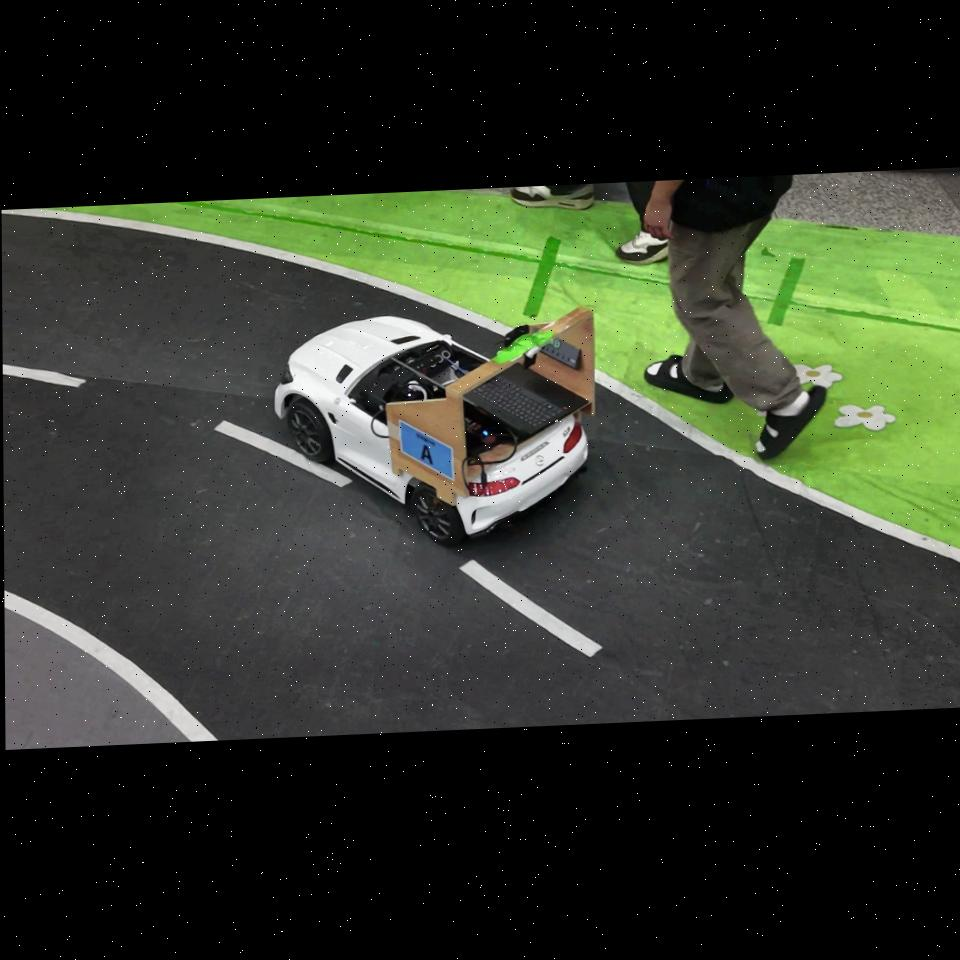broken_line: (460, 560, 602, 656), (215, 420, 351, 487), (3, 364, 85, 387)
